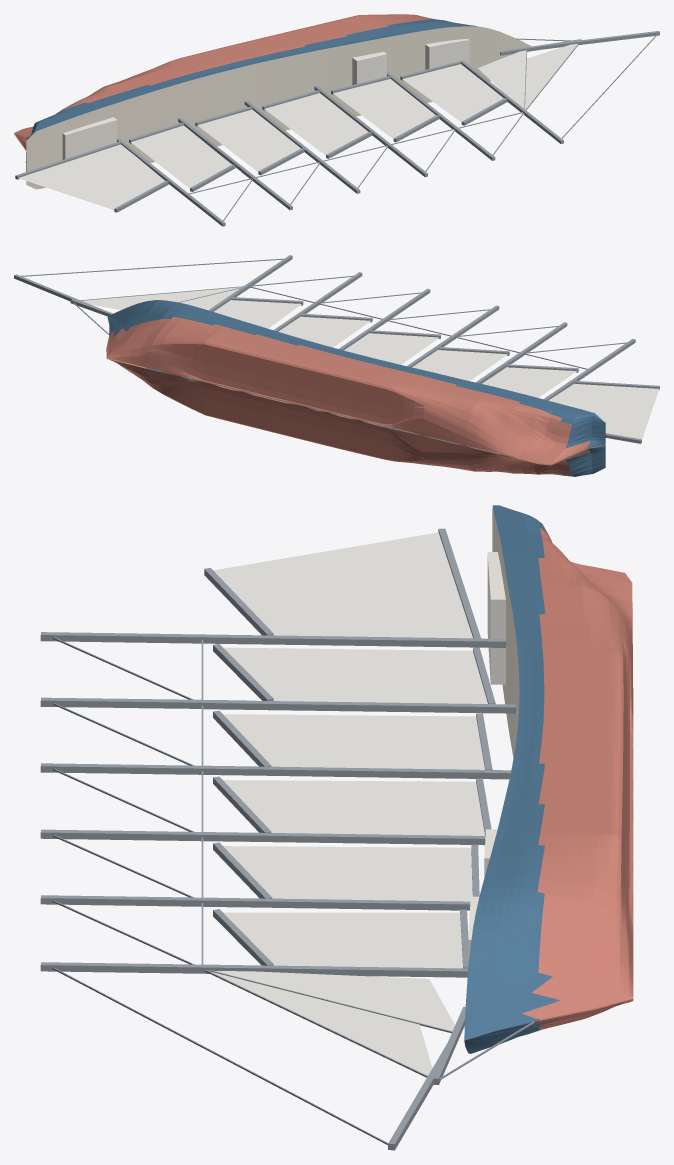
The model's file is wyoming.glb.
3 renders of one model, top to bottom at view 1: azimuth 30°, elevation 25°; view 2: azimuth 150°, elevation 25°; view 3: azimuth 270°, elevation 25°, orthographic. The views are drawn at different scales.
Visible parts, largest first — view 1: Wyoming; view 2: Wyoming; view 3: Wyoming.
Boxes of the visible parts, box(x1,y1,x2,y2) form: Wyoming: box(14, 14, 659, 226); Wyoming: box(14, 255, 659, 476); Wyoming: box(40, 505, 633, 1150).
Bounding box in the file's own units: 2.53 × 0.2855 × 1.03.
